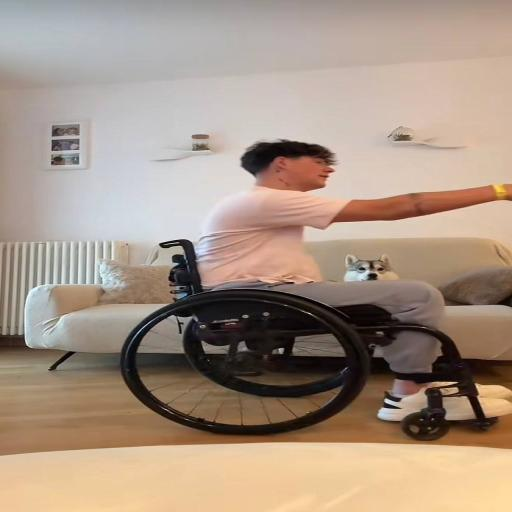crosswalk: (196, 140, 512, 420)
hole: (25, 238, 512, 360)
road: (122, 240, 498, 440)
